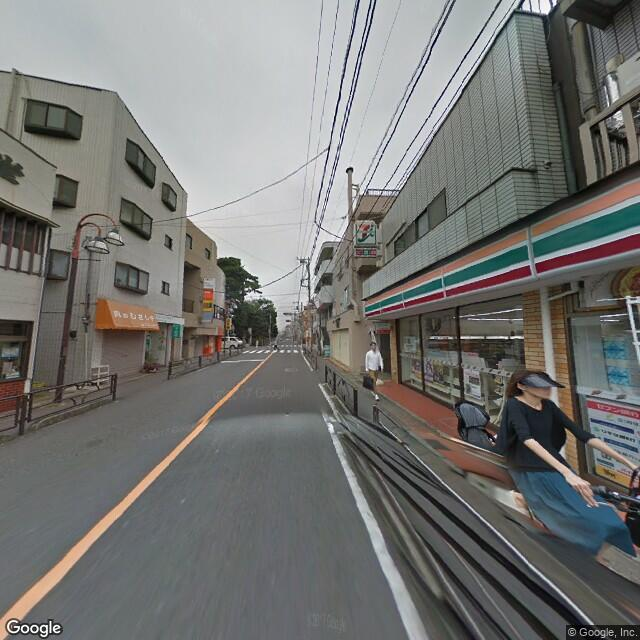7-eleven: (362, 173, 639, 322), (353, 215, 376, 248)
